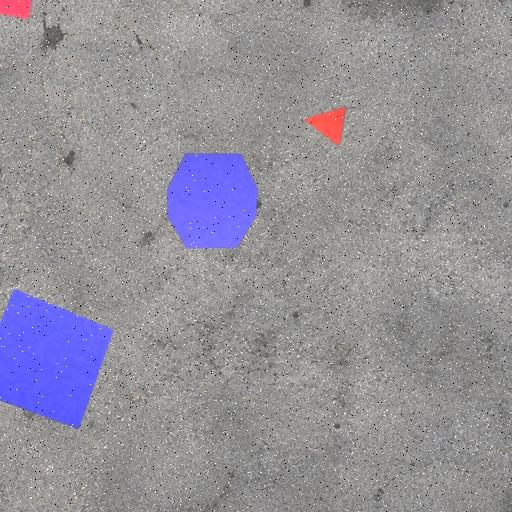BLUE_SQUARE: (0, 288, 114, 430)
